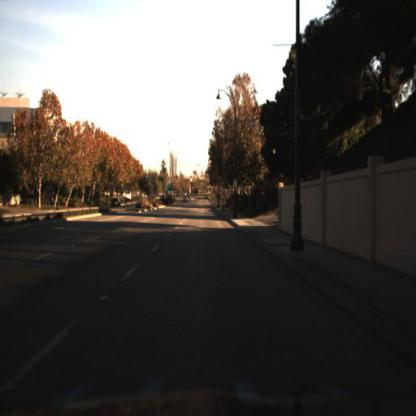car: (181, 189, 193, 208), (109, 196, 125, 210), (111, 195, 124, 209)
